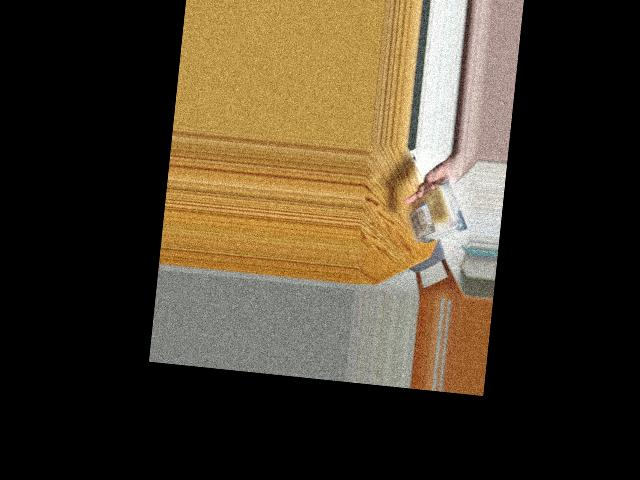cheese: (403, 178, 463, 251)
